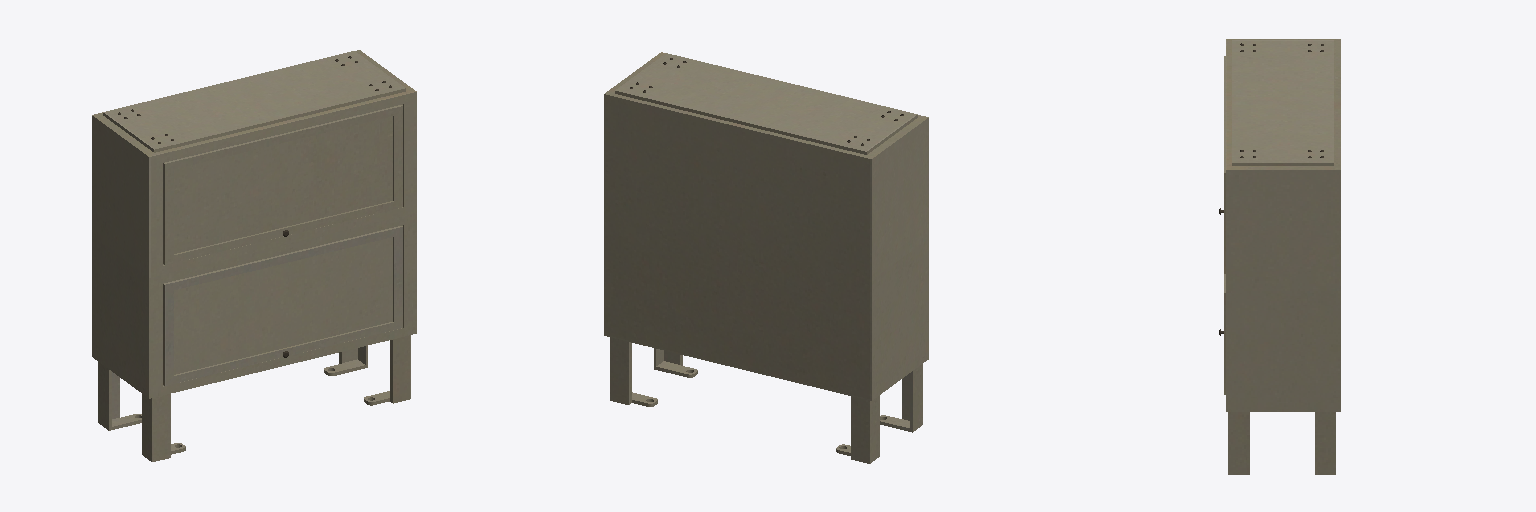
3 views of the same model, side by side, from view 1: azimuth 30°, elevation 25°; view 2: azimuth 150°, elevation 25°; view 3: azimuth 270°, elevation 25° (orthographic).
Visible parts, largest first — view 1: BookCabinet_Captain.obj; view 2: BookCabinet_Captain.obj; view 3: BookCabinet_Captain.obj.
Boxes of the visible parts, x1=… form: BookCabinet_Captain.obj: x1=92, y1=50, x2=416, y2=461; BookCabinet_Captain.obj: x1=604, y1=52, x2=928, y2=463; BookCabinet_Captain.obj: x1=1219, y1=39, x2=1340, y2=474.
Size of the model in its own units: 9.52 by 10.61 by 3.73.
Materials: 1 (1 with a texture image).